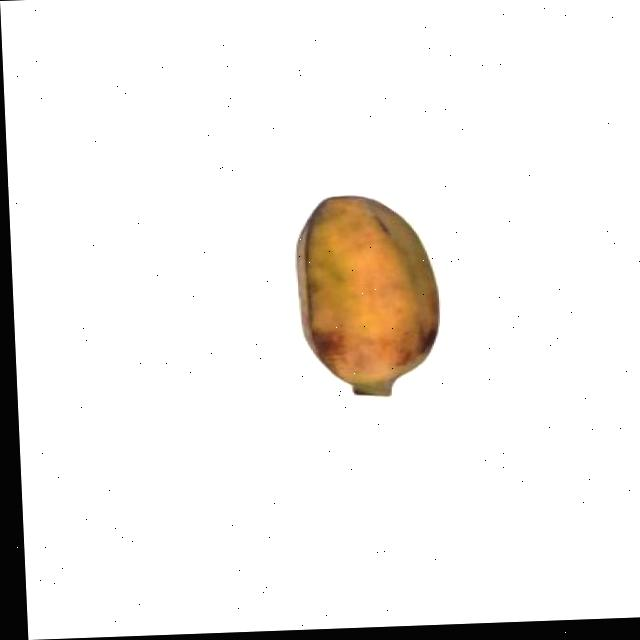banana: (286, 187, 449, 401)
